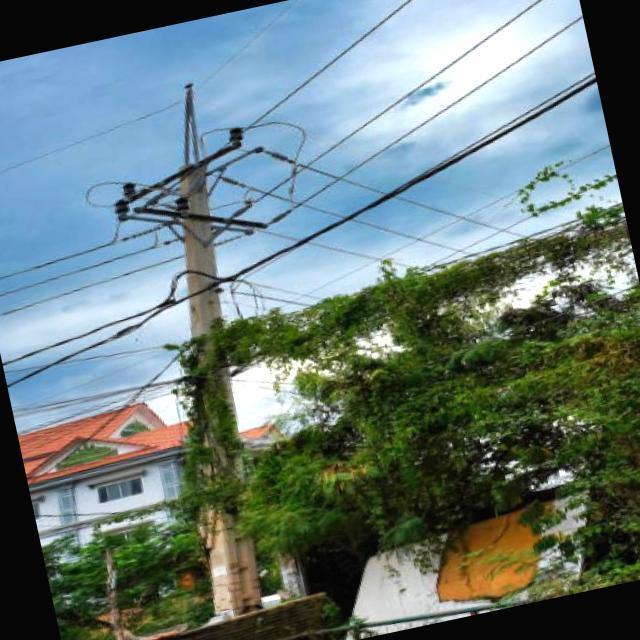critical vegetation: (156, 308, 290, 514)
